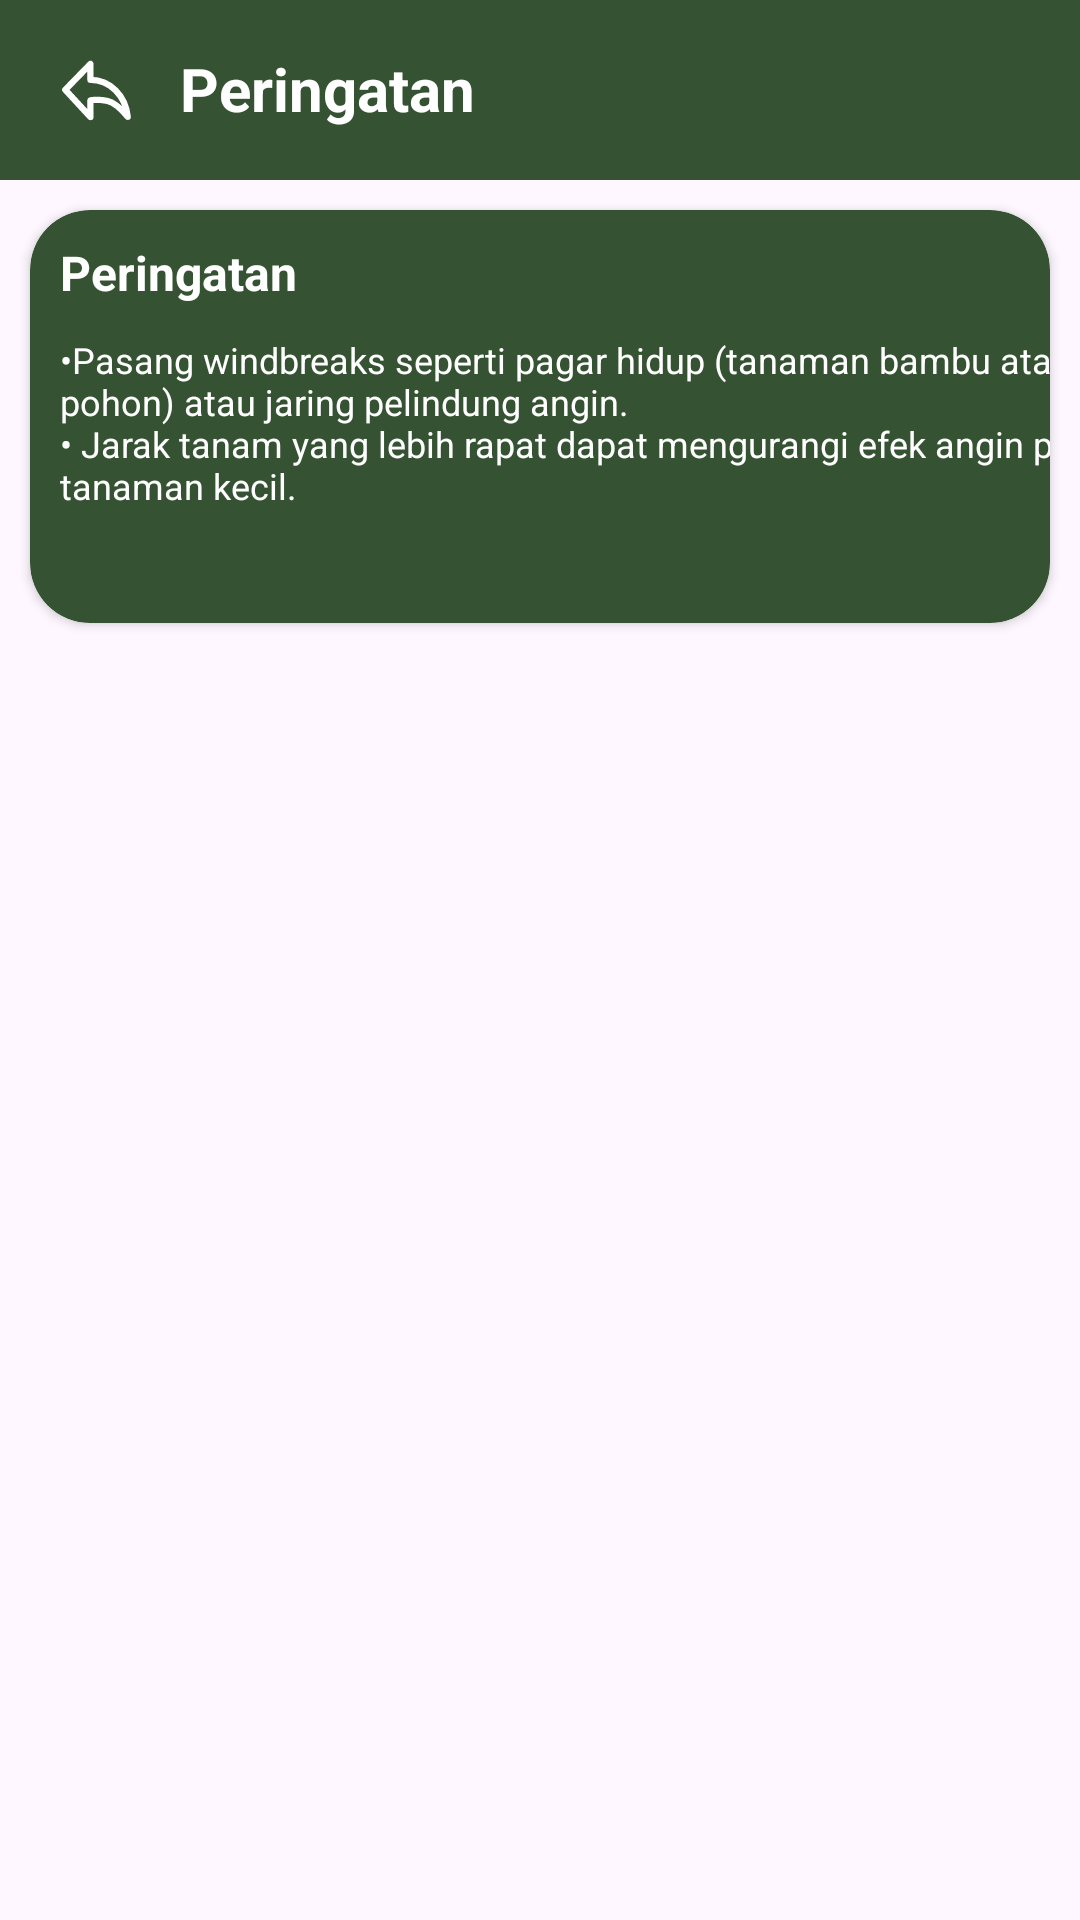

Icons on this 1080×1920 Android screen, each with its box as bbox=[x1, y1, x2, y2]:
back button description: bbox=[62, 60, 131, 121]
